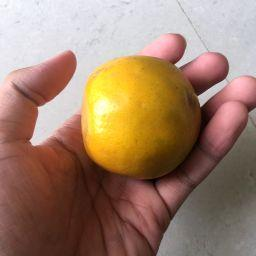Ripe: (83, 55, 201, 179)
